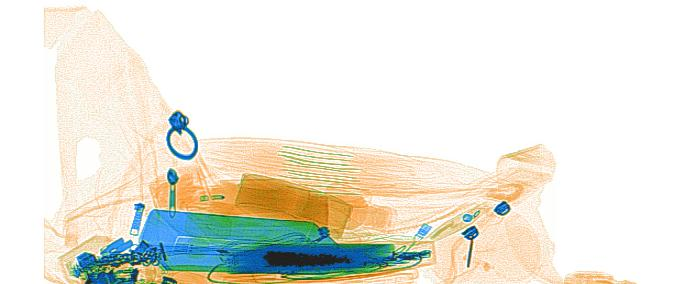plasticBottleWithaNozzle: (179, 178, 294, 216)
